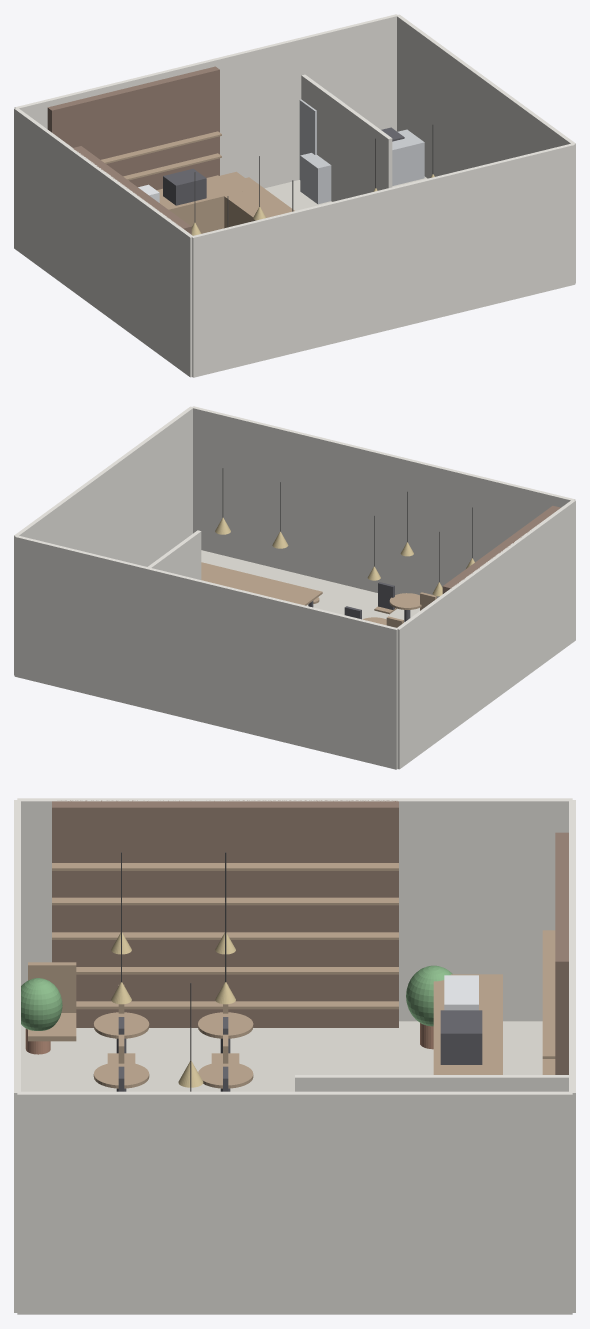
3 renders of one model, top to bottom at view 1: azimuth 30°, elevation 25°; view 2: azimuth 150°, elevation 25°; view 3: azimuth 270°, elevation 25°, orthographic. The views are drawn at different scales.
Visible parts, largest first — view 1: WallFront, WallLeft, WallBack, WallRight, BackBar, WallKitchen, KitchenCounter, BarH, BarV, EspressoMachine, BookWall, Fridge (+3 smaller); view 2: WallBack, WallFront, WallLeft, WallRight, Floor, LongTable, WallKitchen, BookWall; view 3: WallRight, BookWall, WallLeft, Floor, WallKitchen, BarH, BackBar, BookShelf3, WallBack, WallFront, BookShelf0, BookShelf4 (+13 smaller).
Boxes of the visible parts, box(x1,y1,x2,y2) form: WallFront: box(192, 144, 575, 377); WallLeft: box(14, 108, 193, 377); WallBack: box(14, 14, 398, 188); WallRight: box(397, 14, 575, 283); BackBar: box(47, 66, 219, 190); WallKitchen: box(301, 74, 392, 201); KitchenCounter: box(300, 129, 424, 204); BarH: box(158, 171, 258, 233); BarV: box(211, 177, 294, 228); EspressoMachine: box(163, 168, 206, 205); BookWall: box(73, 146, 191, 234); Fridge: box(299, 93, 345, 179); WallBack: box(14, 536, 398, 769); WallFront: box(191, 406, 575, 598); WallLeft: box(397, 500, 575, 769); WallRight: box(14, 406, 192, 675); Floor: box(201, 550, 419, 622); LongTable: box(201, 562, 322, 605); WallKitchen: box(148, 530, 201, 579); BookWall: box(442, 506, 560, 593); WallRight: box(17, 1091, 572, 1314); BookWall: box(52, 800, 398, 1027); WallLeft: box(17, 798, 572, 1021); Floor: box(21, 1021, 542, 1091); WallKitchen: box(295, 1075, 568, 1091); BarH: box(433, 974, 502, 1074); BackBar: box(555, 832, 568, 1074); BookShelf3: box(52, 897, 398, 905); WallBack: box(569, 800, 575, 1312); WallFront: box(14, 800, 20, 1312); BookShelf0: box(76, 1001, 398, 1009); BookShelf4: box(52, 863, 398, 870).
Bounding box in the file's own units: 10.1 × 3.5 × 8.1.
